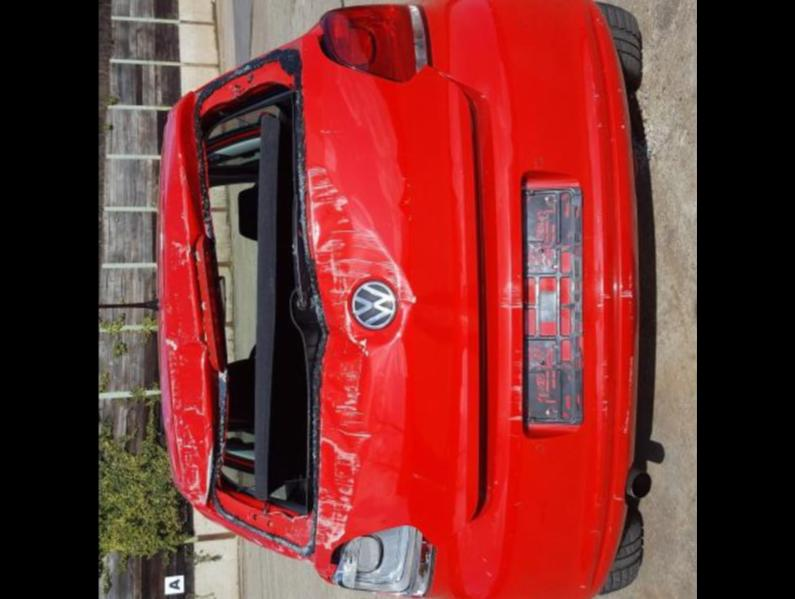Broken part: (289, 40, 332, 566), (176, 129, 228, 507), (451, 81, 491, 520), (331, 526, 435, 594)
Dent: (164, 174, 211, 500), (304, 314, 371, 542), (300, 185, 365, 276)
Missing part: (195, 48, 325, 548), (526, 189, 579, 421)
Paint chip: (297, 156, 414, 552), (164, 157, 214, 504), (212, 505, 318, 565), (594, 285, 634, 306), (512, 348, 523, 422), (499, 276, 520, 311)
Scratch: (622, 354, 634, 433), (610, 495, 624, 503), (614, 85, 622, 95), (590, 91, 599, 99), (596, 123, 602, 129), (575, 585, 584, 589), (620, 124, 626, 129), (590, 529, 600, 532)
